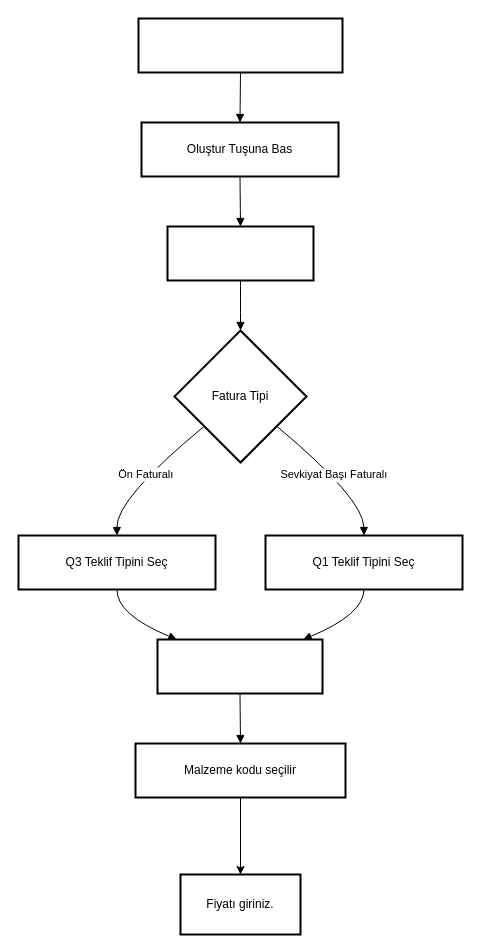
Image size: 480x952. Some labels were removed from this diagram. Here are the shapes that lost their labels. From the top down, the centre of each, then its label:
point (240, 45): SALT01 Modülünü Aç
point (240, 253): Firmayı Seç
point (239, 666): Tamam'a Tıkla
